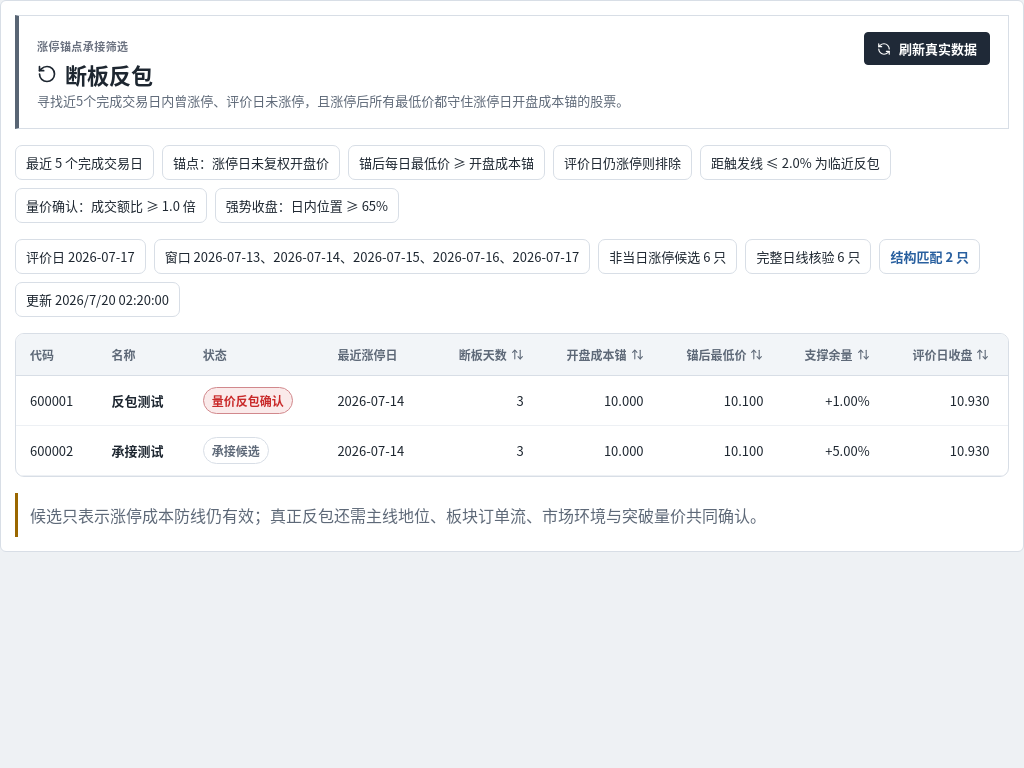
Test: 断板反包 › 初载只读缓存、状态优先且数值可排序，部分缺口不覆盖完整快照
The image size is (1024, 768).
Expected: the text "反包测试" is shown, [111,390,163,410]
Expected: the text "量价确认：成交额比 ≥ 1.0 倍" is shown, [15,188,207,222]
What coordinates should you click on to do the following:
click the button with aria-label "按支撑余量降序排列"
I would click on:
 (830, 354)
Its box is [791,346,870,362].
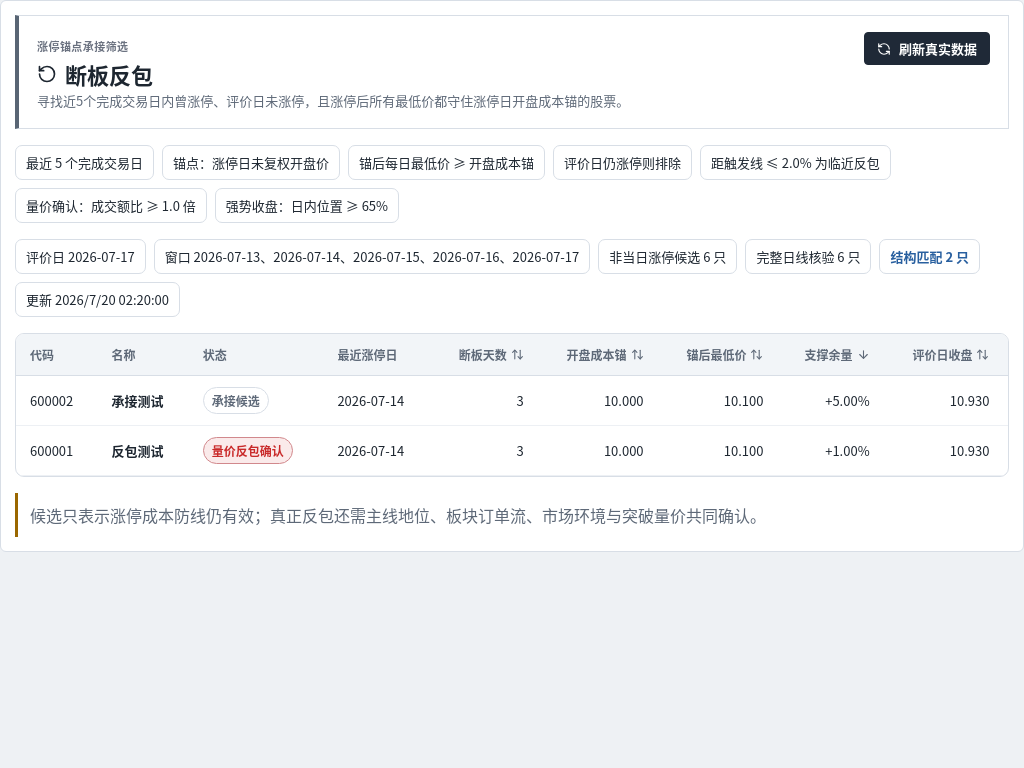
Expected: the text "承接测试" is shown, [111,390,163,410]
What coordinates should you click on to do the following:
click the button with aria-label "按支撑余量升序排列"
I would click on:
 (830, 354)
Its box is [791,346,870,362].
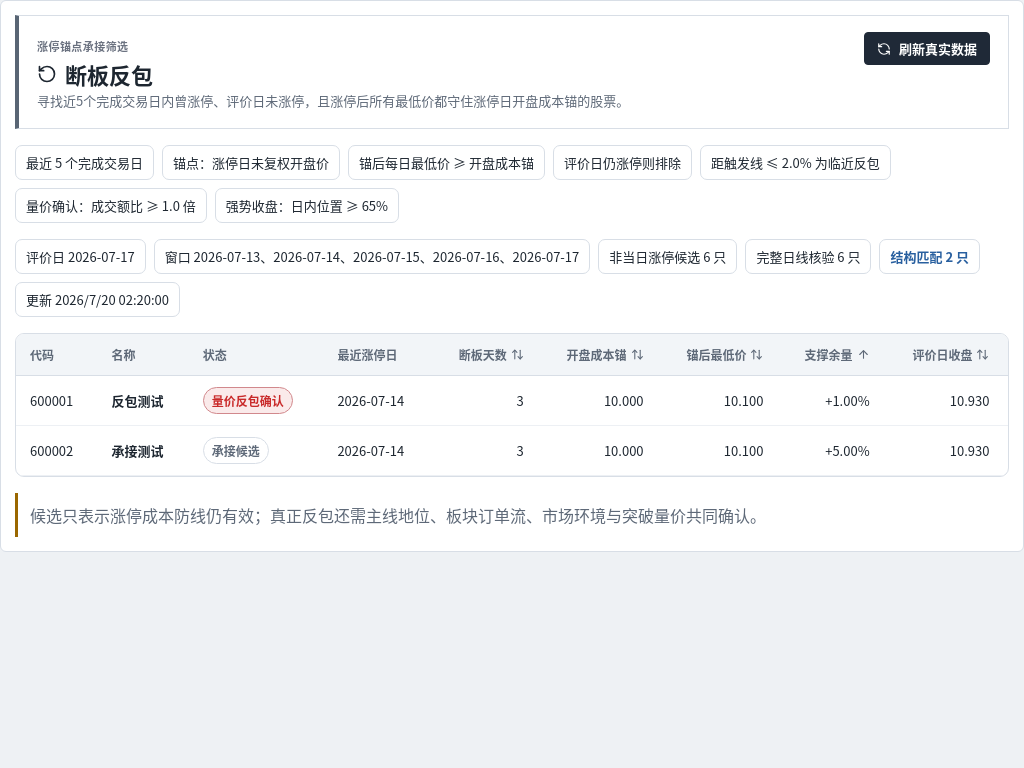
Expected: the text "反包测试" is shown, [111,390,163,410]
What coordinates should you click on to do the following:
click the button "刷新真实数据"
I would click on:
 (927, 48)
Its box is [864,32,990,65].
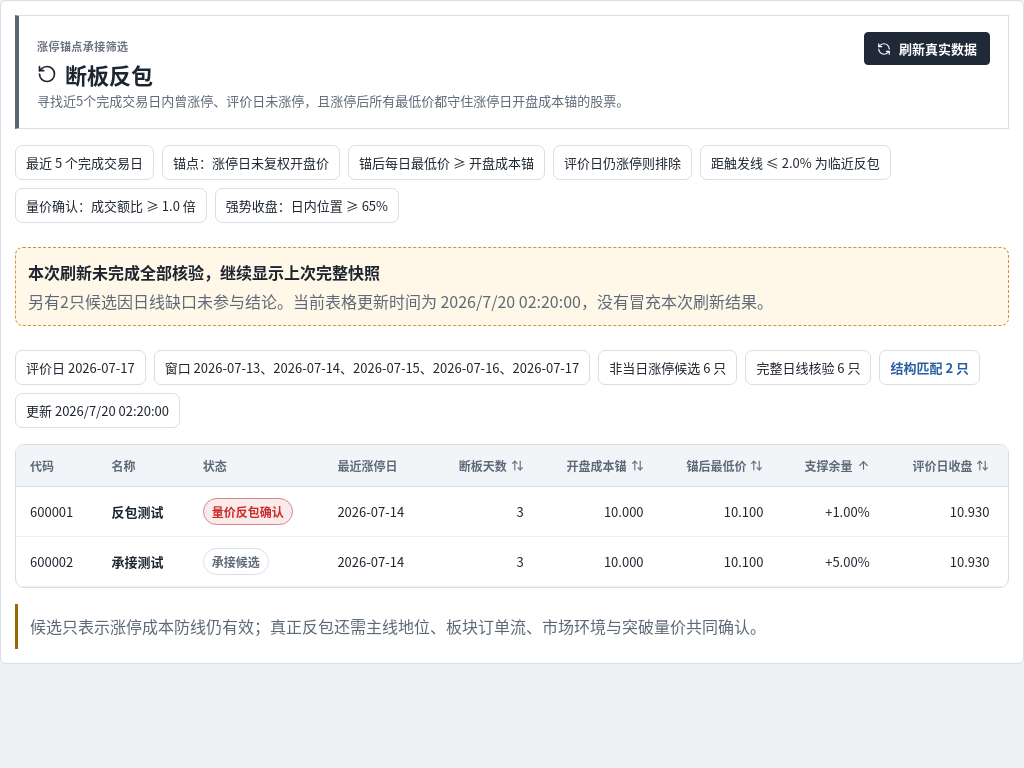
Expected: the text "反包测试" is shown, [111,502,163,521]
Expected: the text "本次刷新未完成全部核验，继续显示上次完整快照" is shown, [28,260,380,284]
What coordinates should you click on to do the following:
click the button "刷新真实数据"
I would click on:
 (927, 48)
Its box is [864,32,990,65].
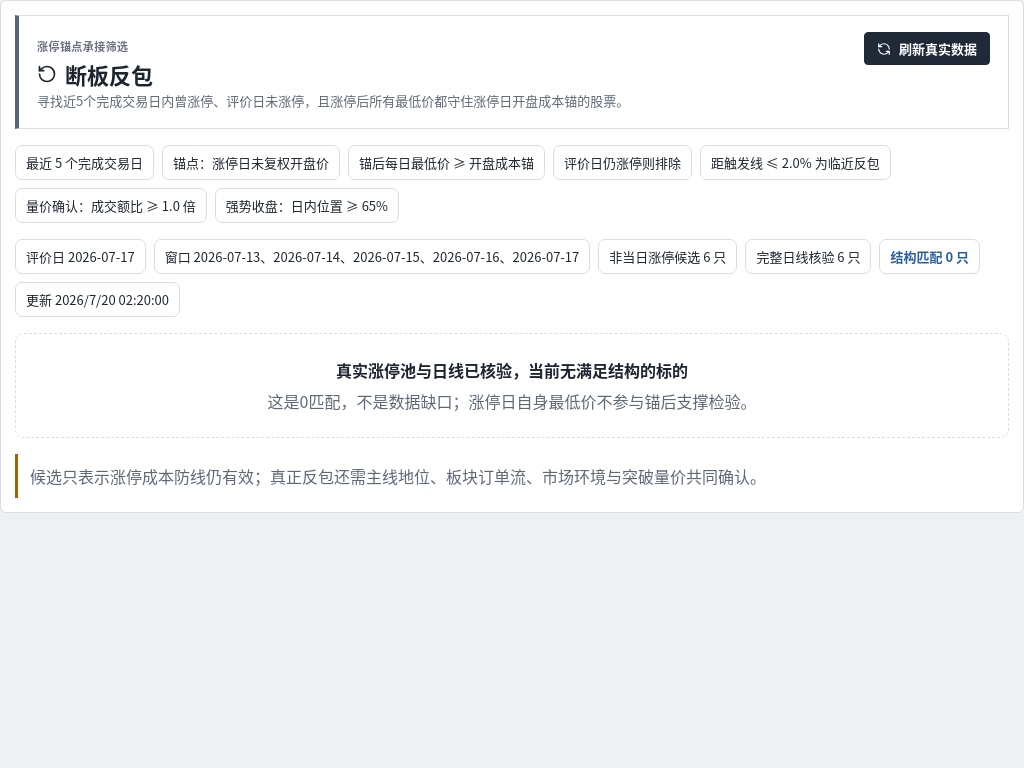
Expected: the text "真实涨停池与日线已核验，当前无满足结构的标的" is shown, [336,358,688,382]
Expected: the text "本次刷新未完成全部核验，继续显示上次完整快照" is gone
